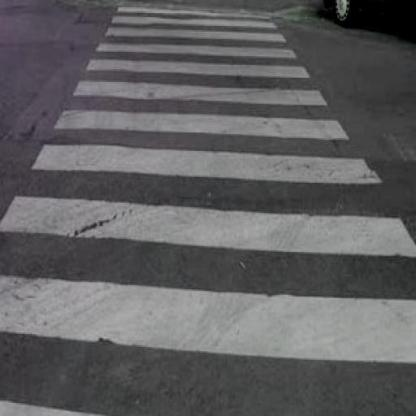crosswalk: (1, 195, 415, 372), (12, 105, 388, 183), (78, 42, 324, 84), (102, 4, 286, 34)
